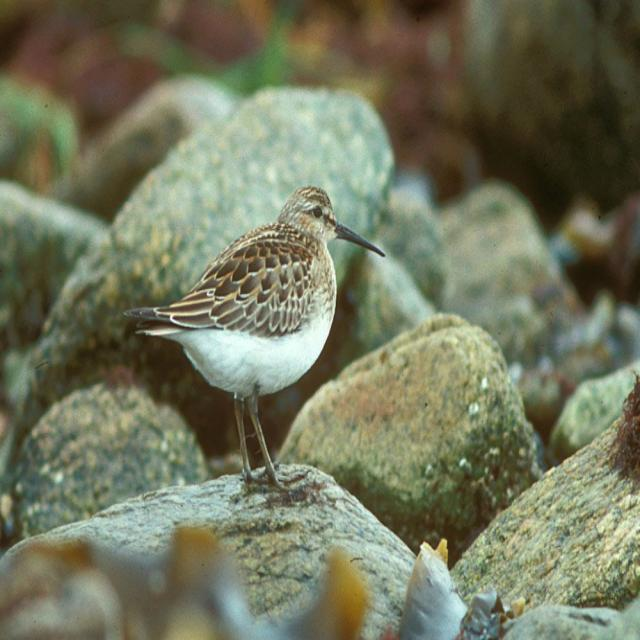sandpiper: (125, 187, 385, 485)
